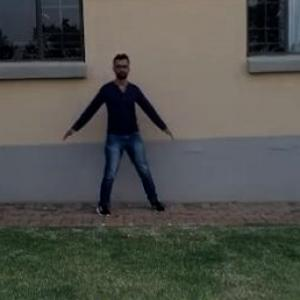land: (64, 58, 174, 227)
